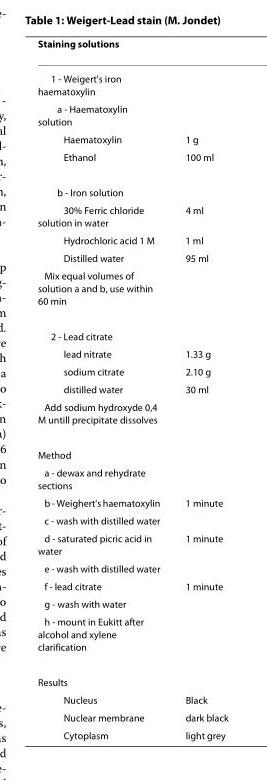table: (37, 36, 227, 740)
table column: (37, 36, 172, 740), (172, 36, 227, 740)
table column header: (37, 36, 227, 60)
table projected row header: (37, 266, 227, 317), (37, 612, 227, 663), (37, 60, 227, 99), (37, 397, 227, 436), (37, 99, 227, 129), (37, 463, 227, 493), (37, 317, 227, 344), (37, 436, 227, 463), (37, 663, 227, 690), (37, 174, 227, 200), (37, 594, 227, 612), (37, 511, 227, 528), (37, 559, 227, 576)
table row: (37, 266, 227, 317), (37, 612, 227, 663), (37, 60, 227, 99), (37, 397, 227, 436), (37, 528, 227, 559), (37, 99, 227, 129), (37, 200, 227, 230), (37, 463, 227, 493), (37, 147, 227, 174), (37, 317, 227, 344), (37, 436, 227, 463), (37, 663, 227, 690), (37, 174, 227, 200), (37, 36, 227, 60), (37, 129, 227, 147), (37, 230, 227, 248), (37, 248, 227, 266), (37, 344, 227, 362), (37, 379, 227, 397), (37, 493, 227, 511), (37, 576, 227, 594), (37, 594, 227, 612), (37, 690, 227, 708), (37, 362, 227, 379), (37, 511, 227, 528), (37, 559, 227, 576), (37, 708, 227, 725), (37, 725, 227, 740)
